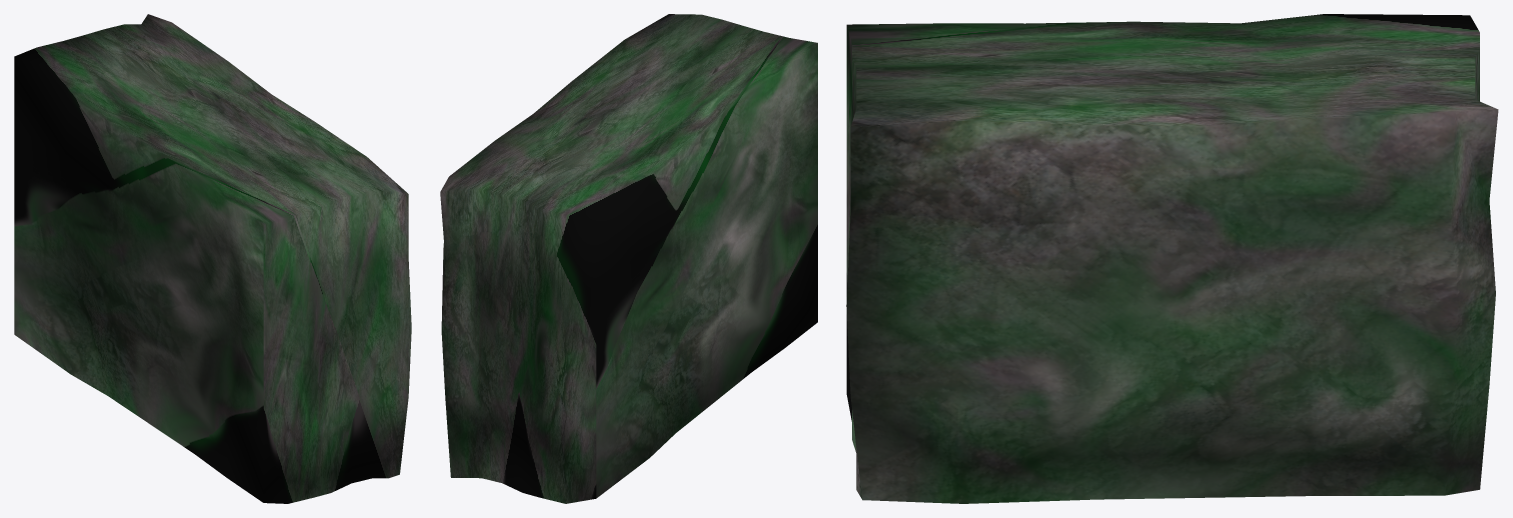
The model's file is CaveStone2 (2).fbx.
3 renders of one model, left to right at view 1: azimuth 30°, elevation 25°; view 2: azimuth 150°, elevation 25°; view 3: azimuth 270°, elevation 25°, orthographic. The views are drawn at different scales.
Parts seen in each view (by area): view 1: CaveStone2; view 2: CaveStone2; view 3: CaveStone2.
Boxes of the visible parts, box(x1,y1,x2,y2) form: CaveStone2: box(14, 14, 411, 503); CaveStone2: box(440, 14, 817, 503); CaveStone2: box(846, 14, 1498, 503).
Size of the model in its own units: 780 by 1333 by 2020.
Materials: 1 (1 with a texture image).
